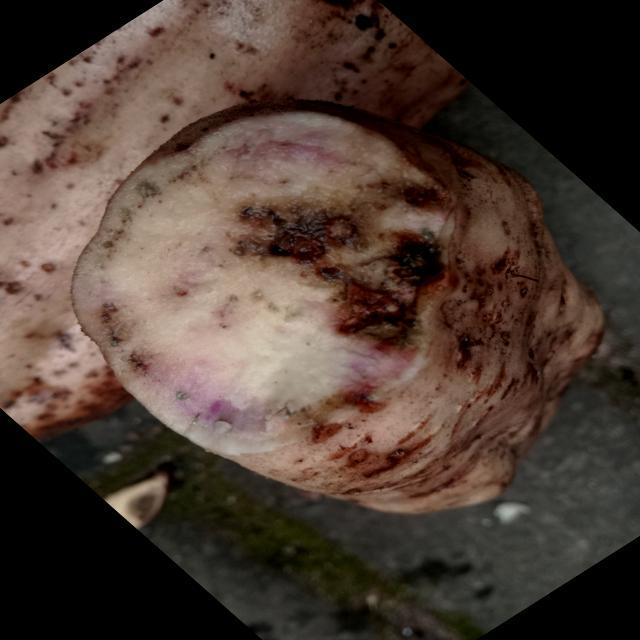Sick Sweet Potato_Tuber Rot: (73, 101, 455, 456)
